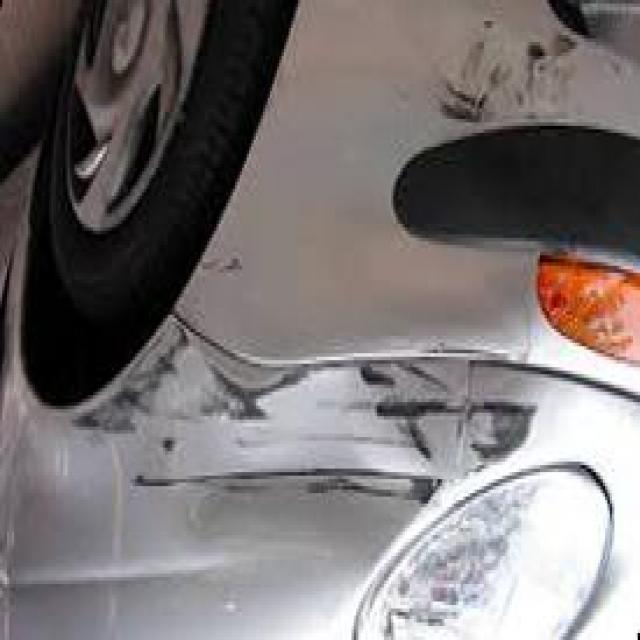scratch: (70, 316, 544, 512), (438, 10, 608, 144)
